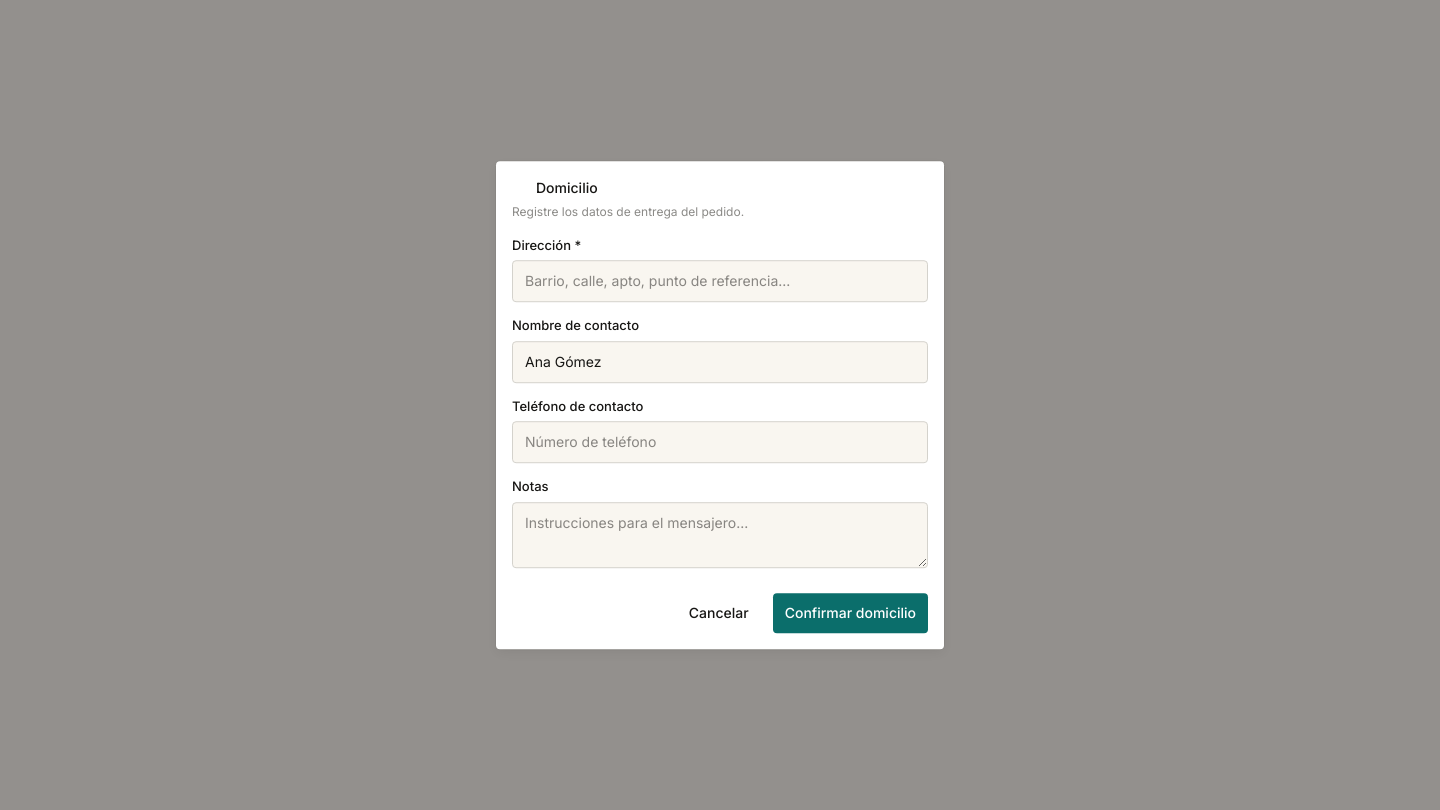
Test: DeliveryFormDialog › shows the address-required error when the address is empty
Step 1. Click the button "Confirmar domicilio" → click(850, 613), box [773,593,928,633]
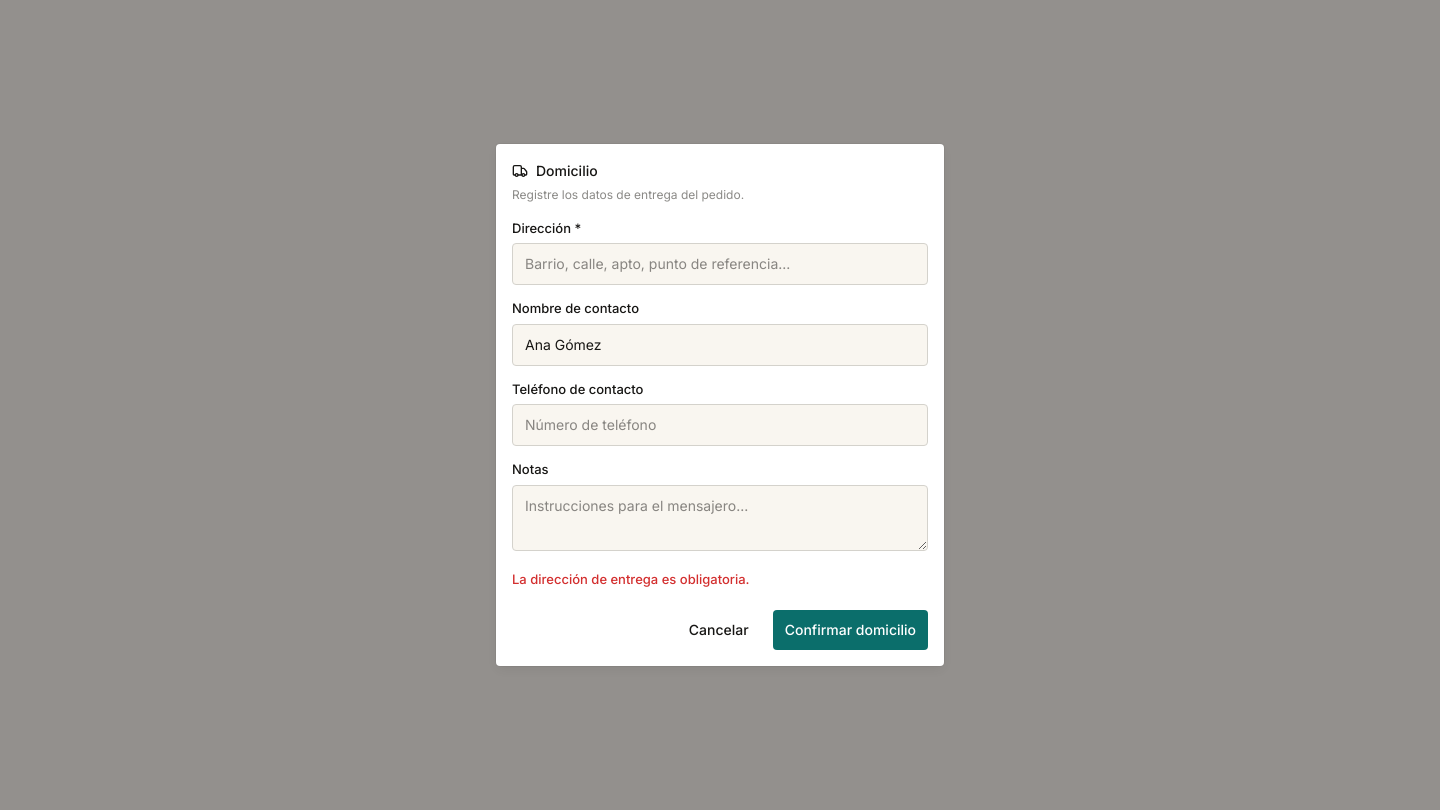
expect the message reads "La dirección de entrega es obligatoria.": met, box [512,571,750,587]
